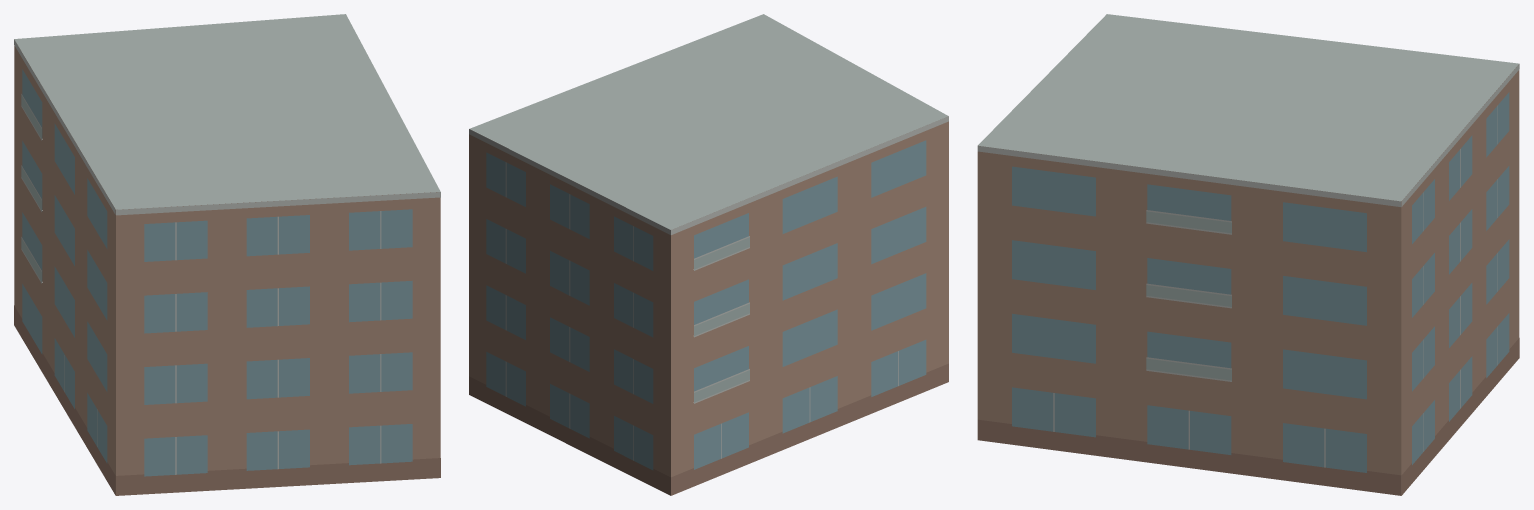
Rendered from survey-upis-33043153.glb.
3 renders of one model, left to right at view 1: azimuth 30°, elevation 25°; view 2: azimuth 150°, elevation 25°; view 3: azimuth 270°, elevation 25°, orthographic. The views are drawn at different scales.
Visible parts, largest first — view 1: survey-upis-33043153.tmp; view 2: survey-upis-33043153.tmp; view 3: survey-upis-33043153.tmp.
Boxes of the visible parts, x1=… form: survey-upis-33043153.tmp: x1=14, y1=14, x2=440, y2=495; survey-upis-33043153.tmp: x1=469, y1=14, x2=948, y2=495; survey-upis-33043153.tmp: x1=977, y1=14, x2=1519, y2=495.
Size of the model in its own units: 16.94 by 12.4 by 20.69.
